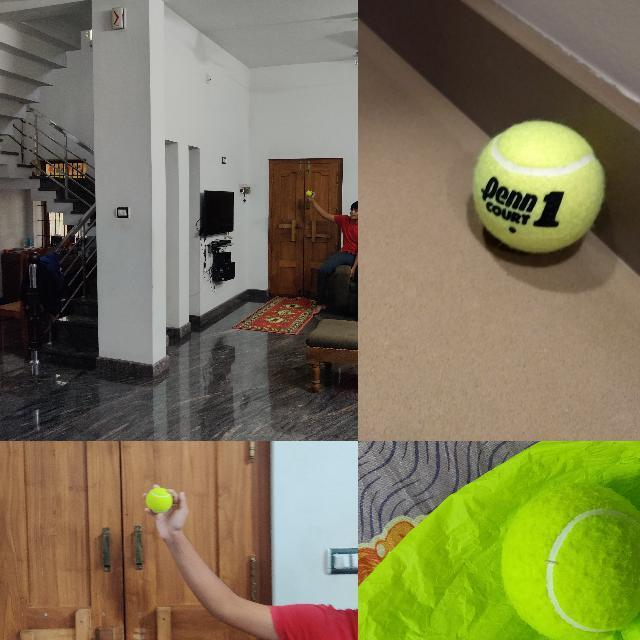tennis-ball: (500, 480, 639, 639), (472, 119, 607, 254), (146, 487, 173, 514), (305, 191, 311, 196)
